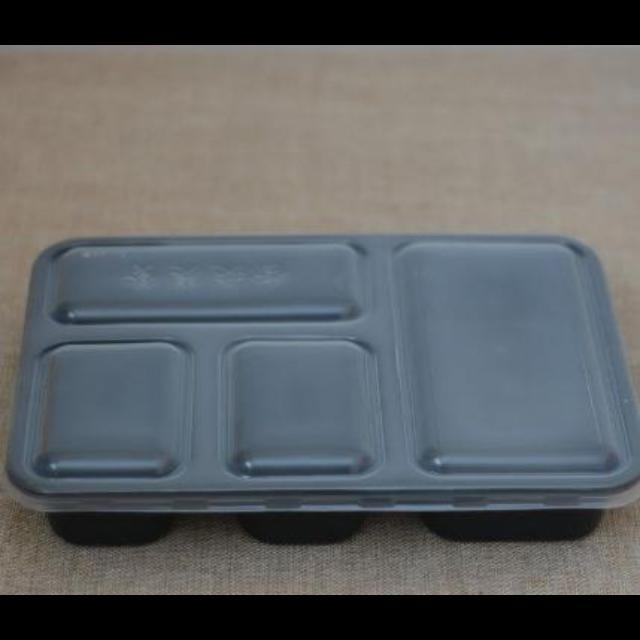plastic_box: (1, 226, 636, 544)
